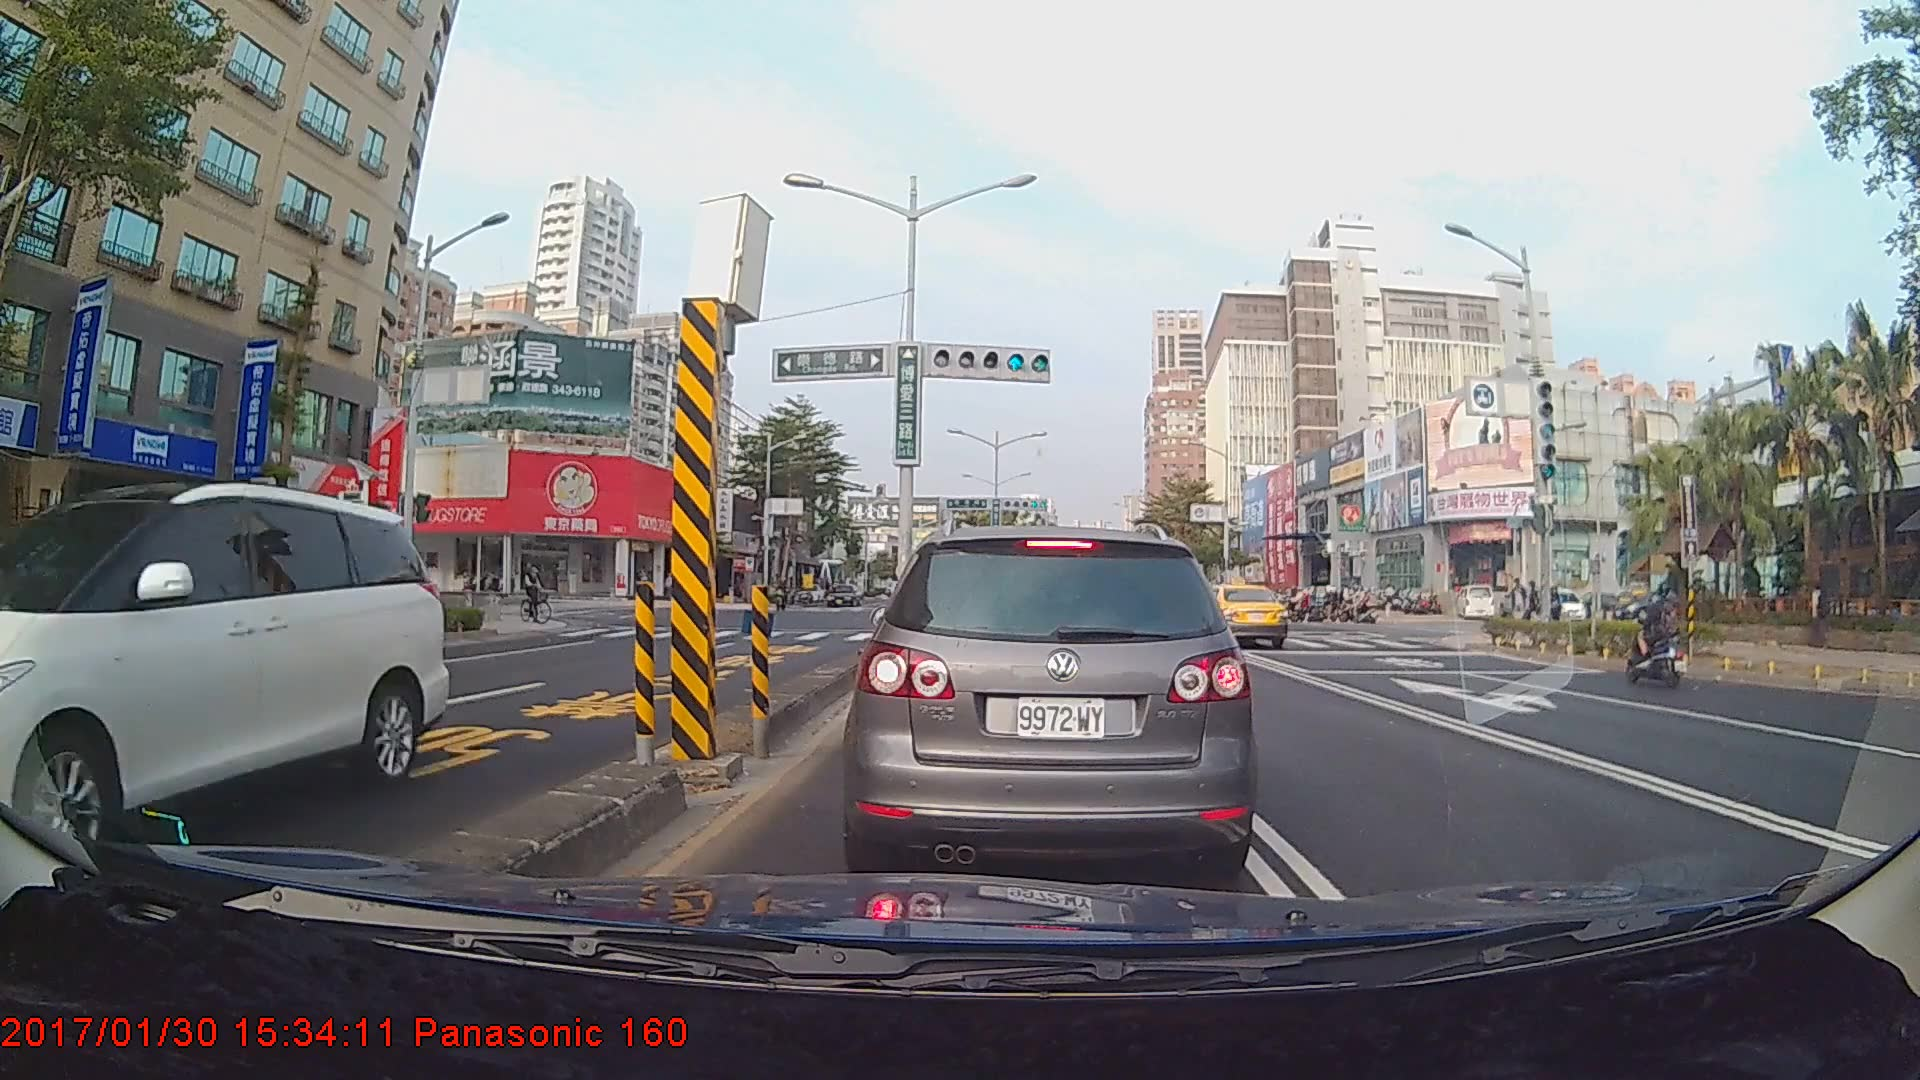pedestrian: (1806, 579, 1831, 648)
rider: (1623, 579, 1694, 691)
vehicle: (0, 484, 446, 874), (853, 521, 1247, 883), (1188, 581, 1290, 648)
